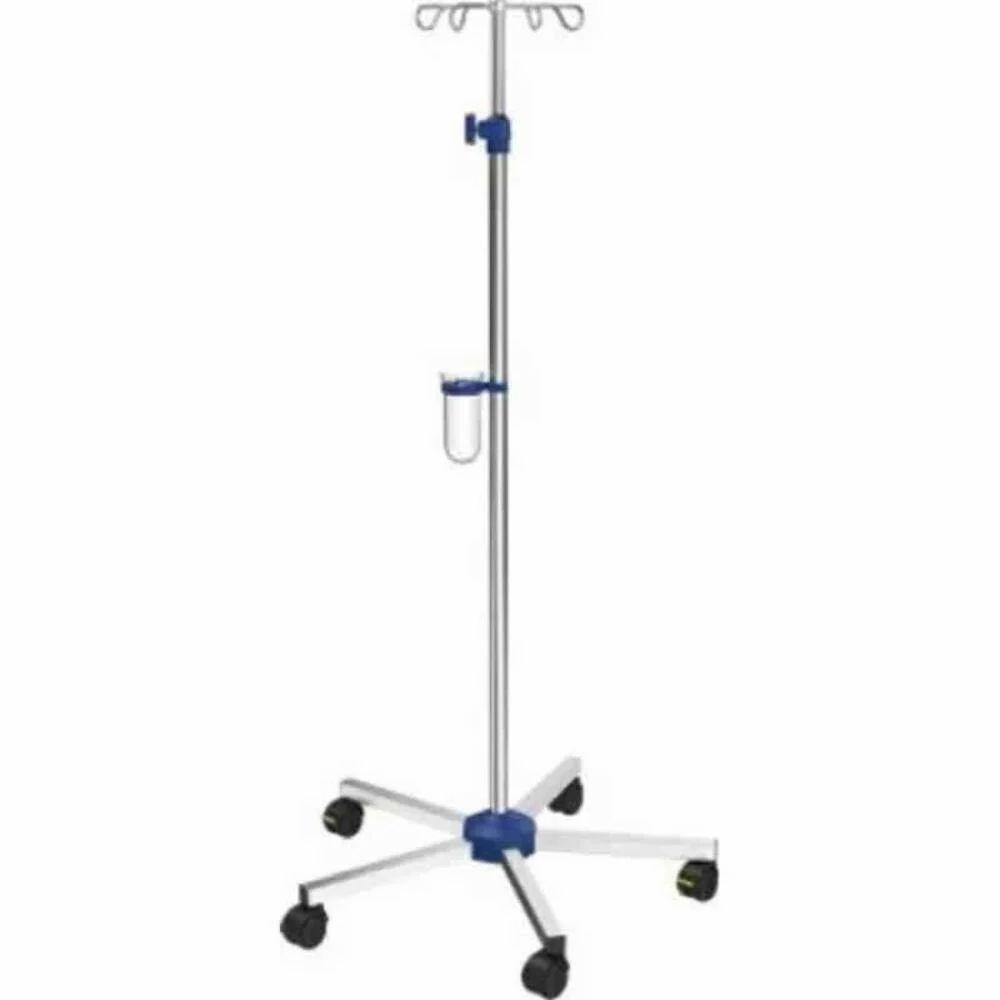Saline Stand: (277, 0, 721, 999)
